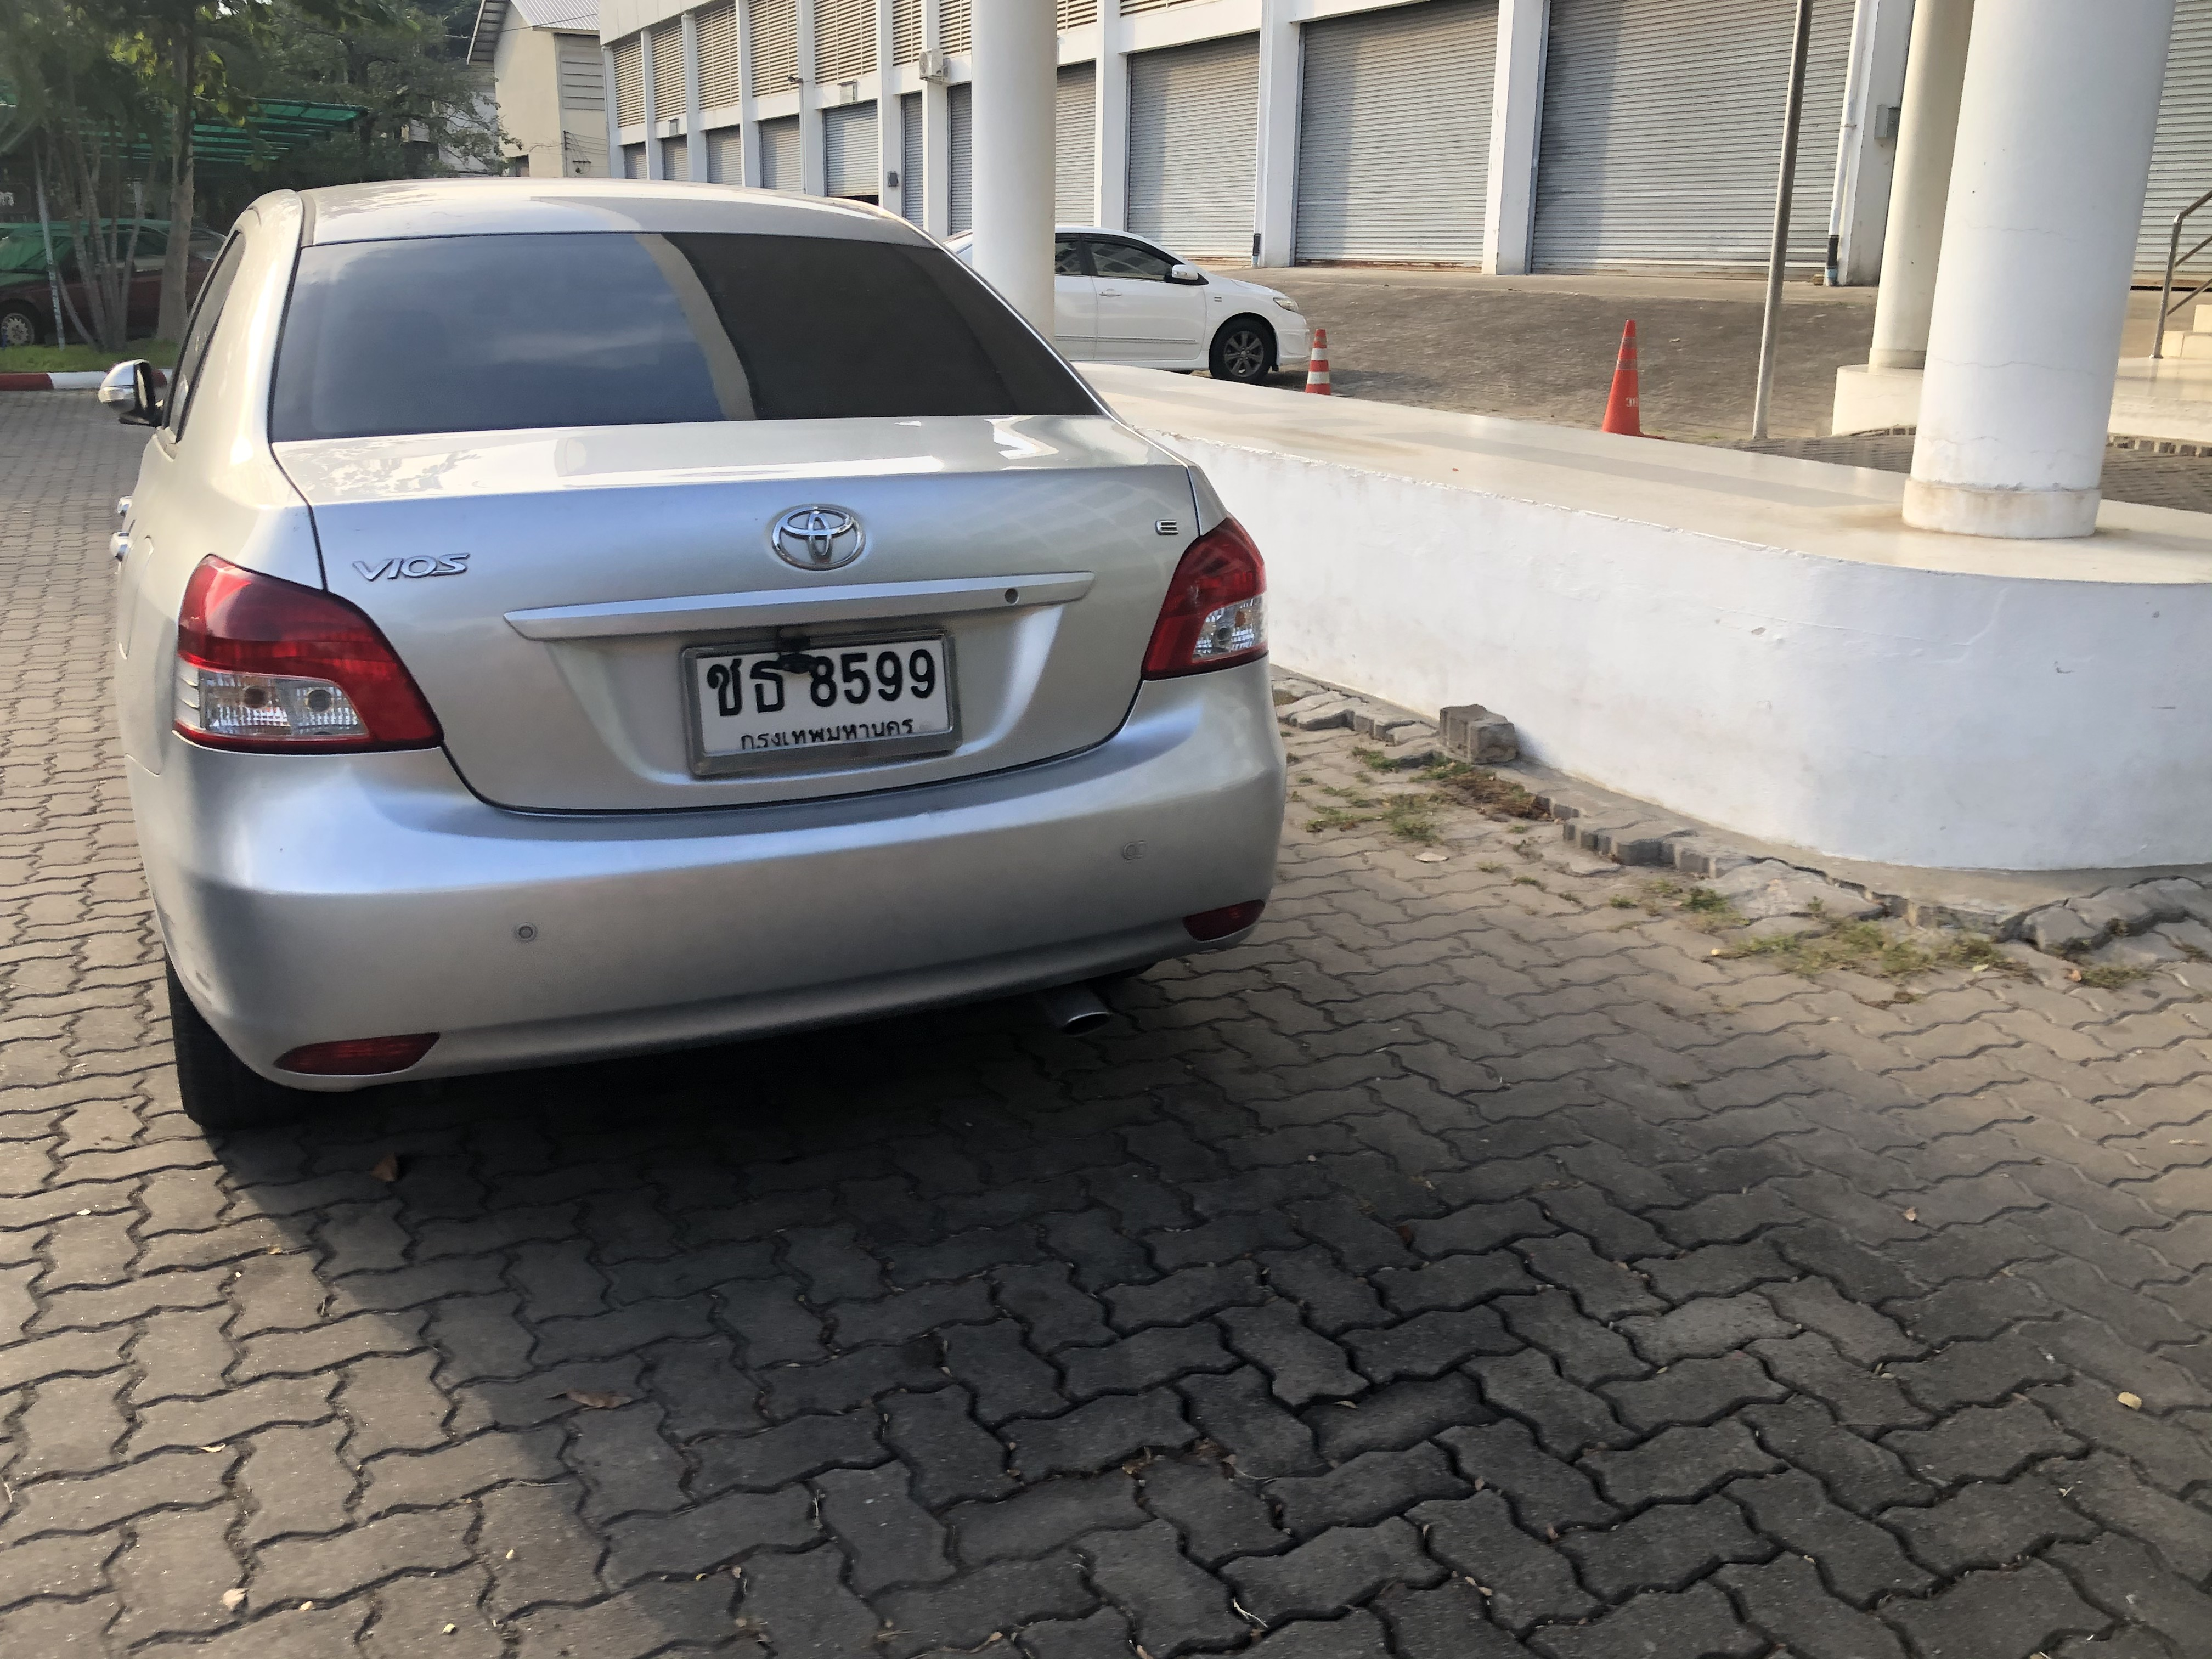in: (697, 645, 956, 753)
out: (674, 631, 972, 775)
